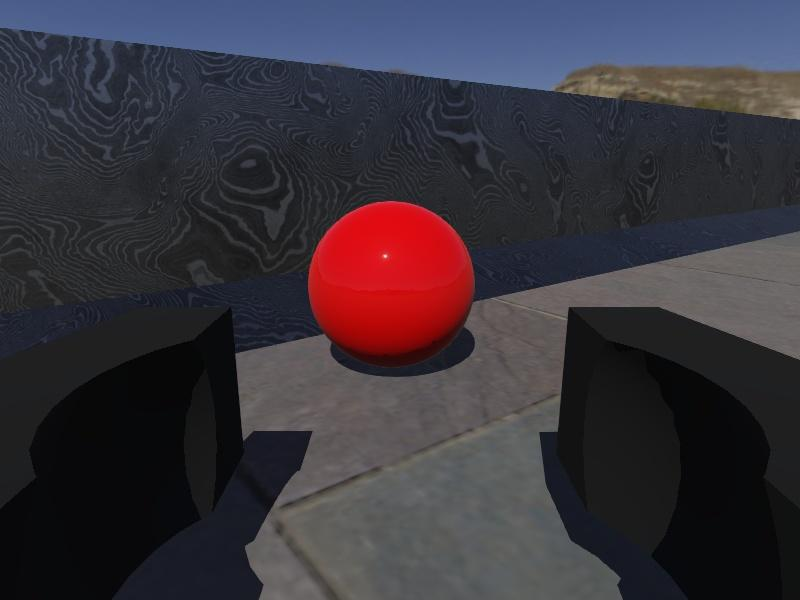red ball: (306, 198, 476, 372)
